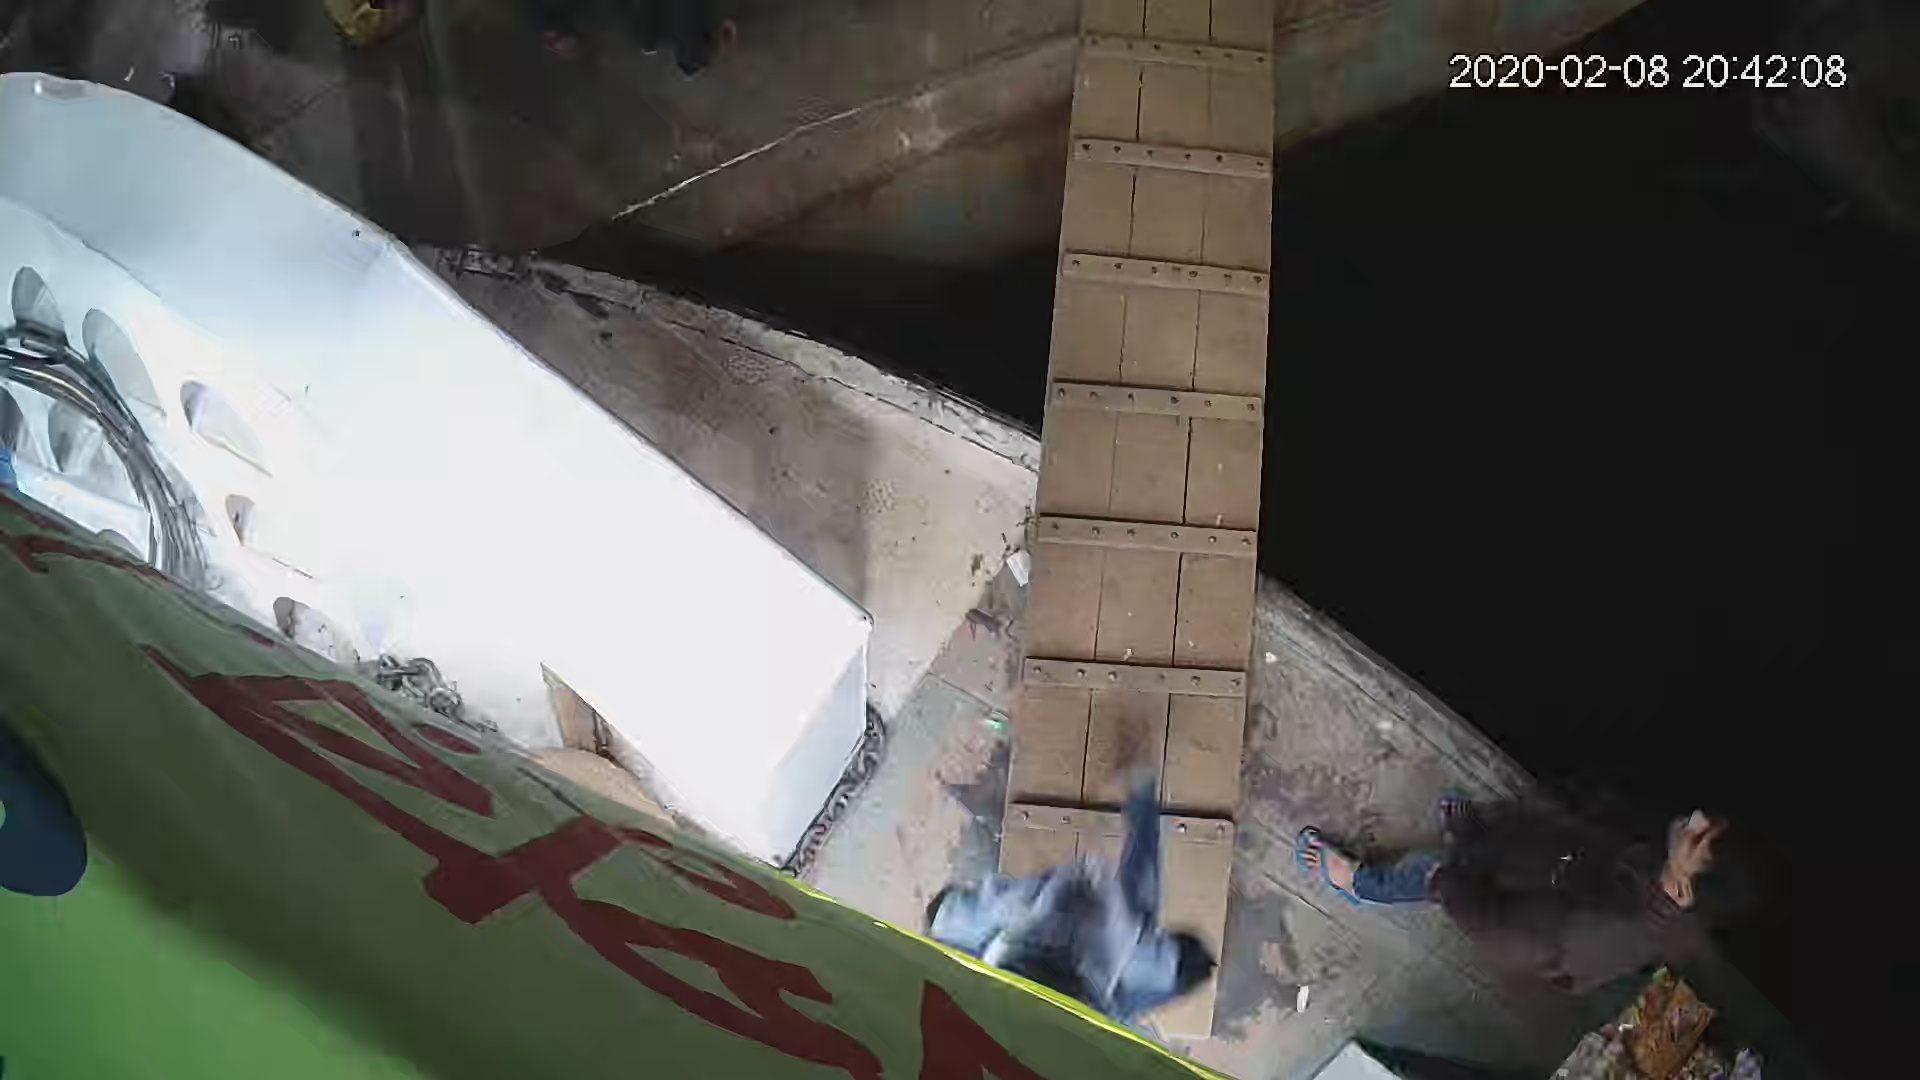person: (1296, 778, 1781, 990)
